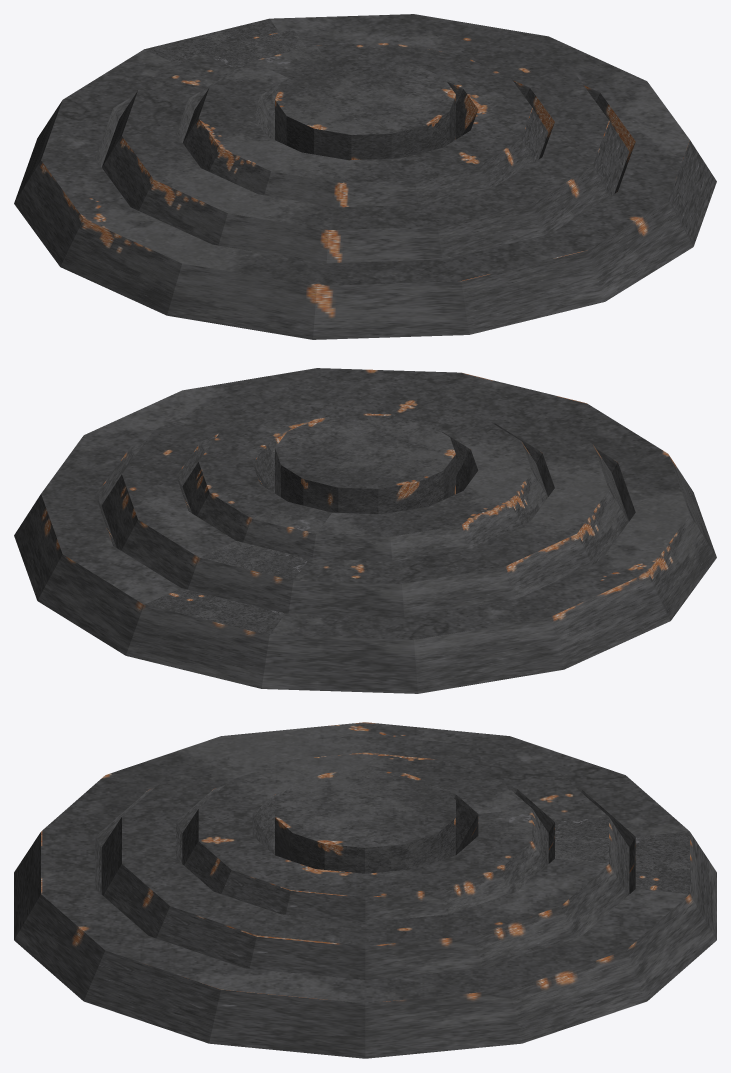
File: RoundDials.fbx
3 renders of one model, top to bottom at view 1: azimuth 30°, elevation 25°; view 2: azimuth 150°, elevation 25°; view 3: azimuth 270°, elevation 25°, orthographic. The views are drawn at different scales.
Parts seen in each view (by area): view 1: RoundDial1, RoundDial2, RoundDial3, RoundDial4; view 2: RoundDial1, RoundDial2, RoundDial3, RoundDial4; view 3: RoundDial1, RoundDial2, RoundDial3, RoundDial4.
Boxes of the visible parts, x1,y1,x2,y2 form: RoundDial1: (14, 14, 716, 339); RoundDial2: (102, 26, 629, 263); RoundDial3: (183, 43, 548, 207); RoundDial4: (275, 59, 455, 160); RoundDial1: (14, 368, 716, 693); RoundDial2: (101, 380, 628, 617); RoundDial3: (182, 397, 547, 561); RoundDial4: (275, 413, 455, 514); RoundDial1: (14, 722, 716, 1058); RoundDial2: (101, 734, 629, 979); RoundDial3: (182, 752, 548, 922); RoundDial4: (275, 769, 455, 873).
Bounding box in the file's own units: 0.2138 × 0.032 × 0.2084.
